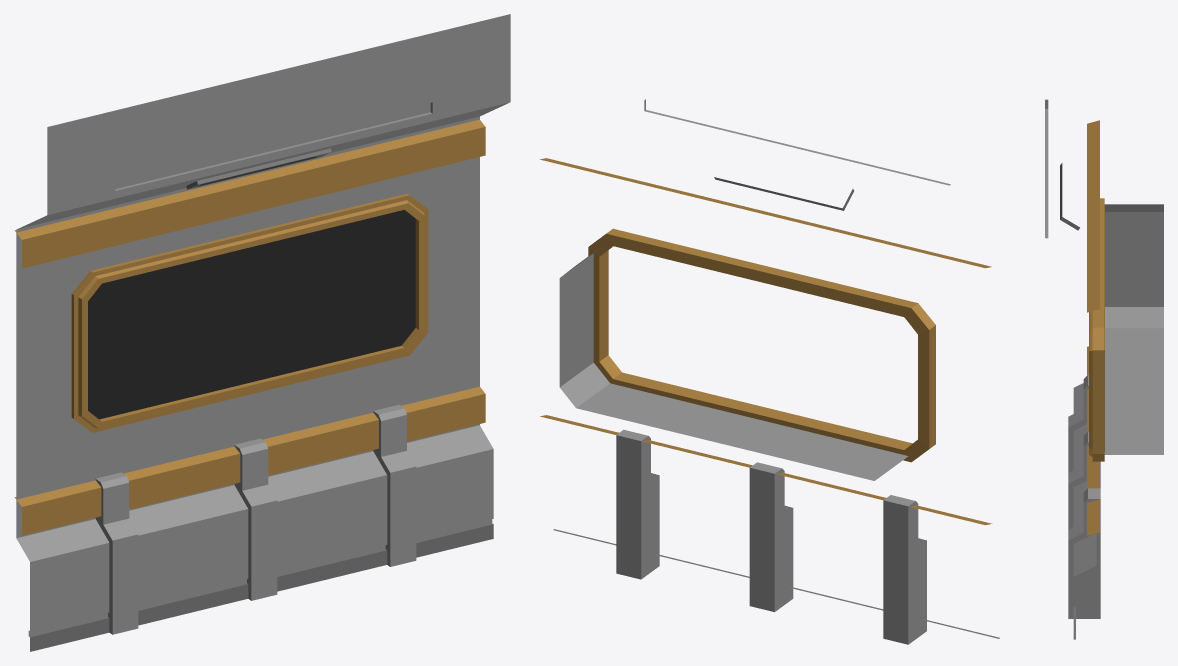
The model's file is Window_Wall_SideA.glb.
3 views of the same model, side by side, from view 1: azimuth 30°, elevation 25°; view 2: azimuth 150°, elevation 25°; view 3: azimuth 270°, elevation 25° (orthographic). The views are drawn at different scales.
Parts seen in each view (by area): view 1: Light; view 2: Light; view 3: Light.
Boxes of the visible parts, box(x1,y1,x2,y2) form: Light: box(14, 14, 510, 651); Light: box(539, 99, 999, 644); Light: box(1045, 99, 1163, 639).
Size of the model in its own units: 4 by 4.43 by 1.06.
1 material, 1 textured.
